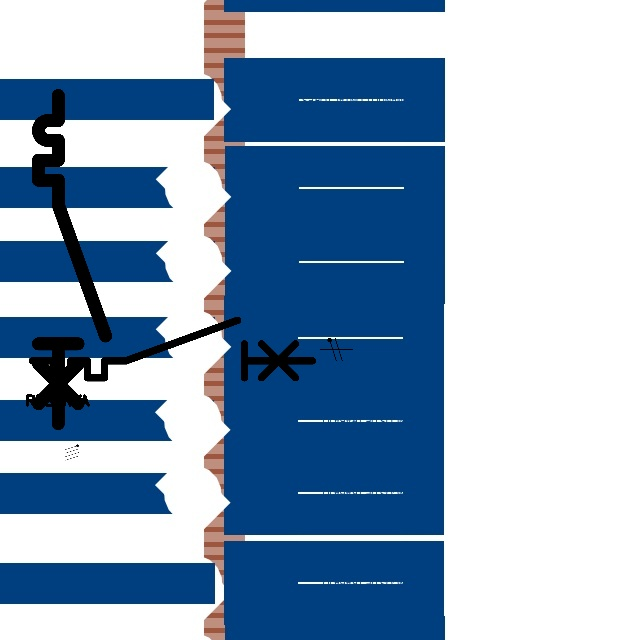interruptor_termomagnetico: (30, 87, 114, 432), (25, 313, 320, 385)
